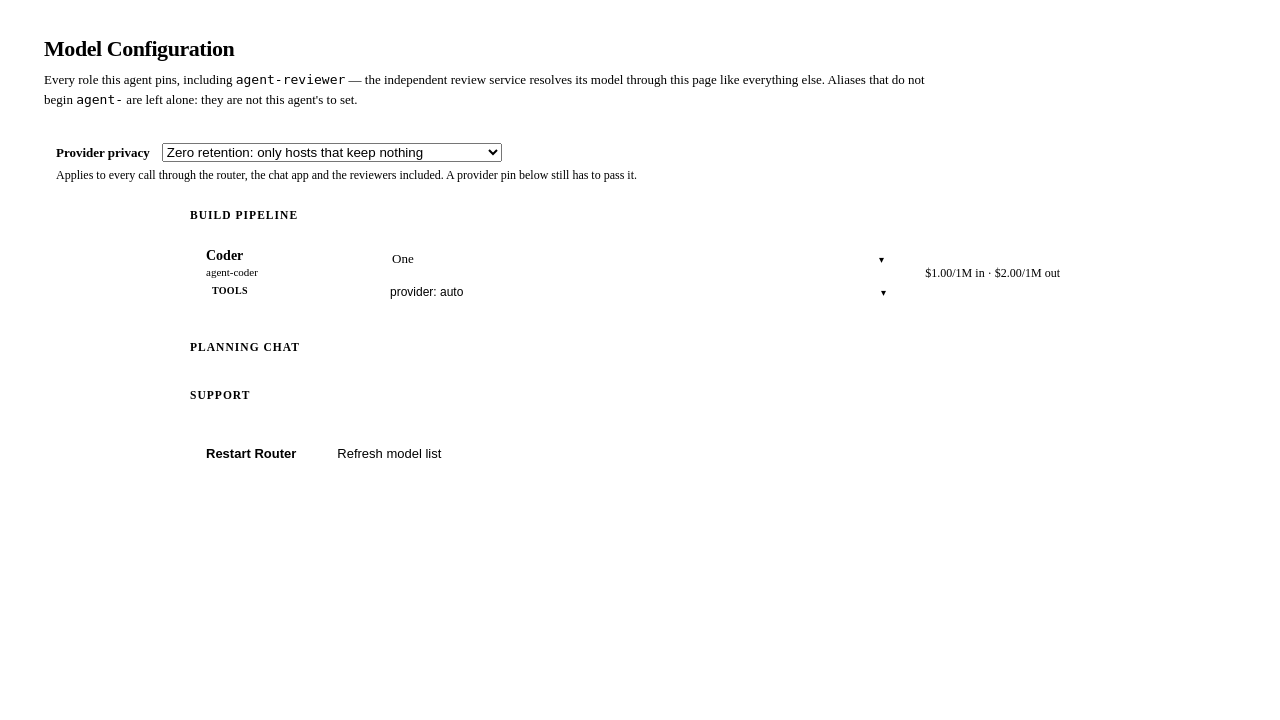
restarting the router › shows a failure INSIDE the dialog instead of behind it
Expected: the text "agent-coder" is shown, [206,266,258,278]
Click the button "Restart Router": (251,454) [190,437,312,470]
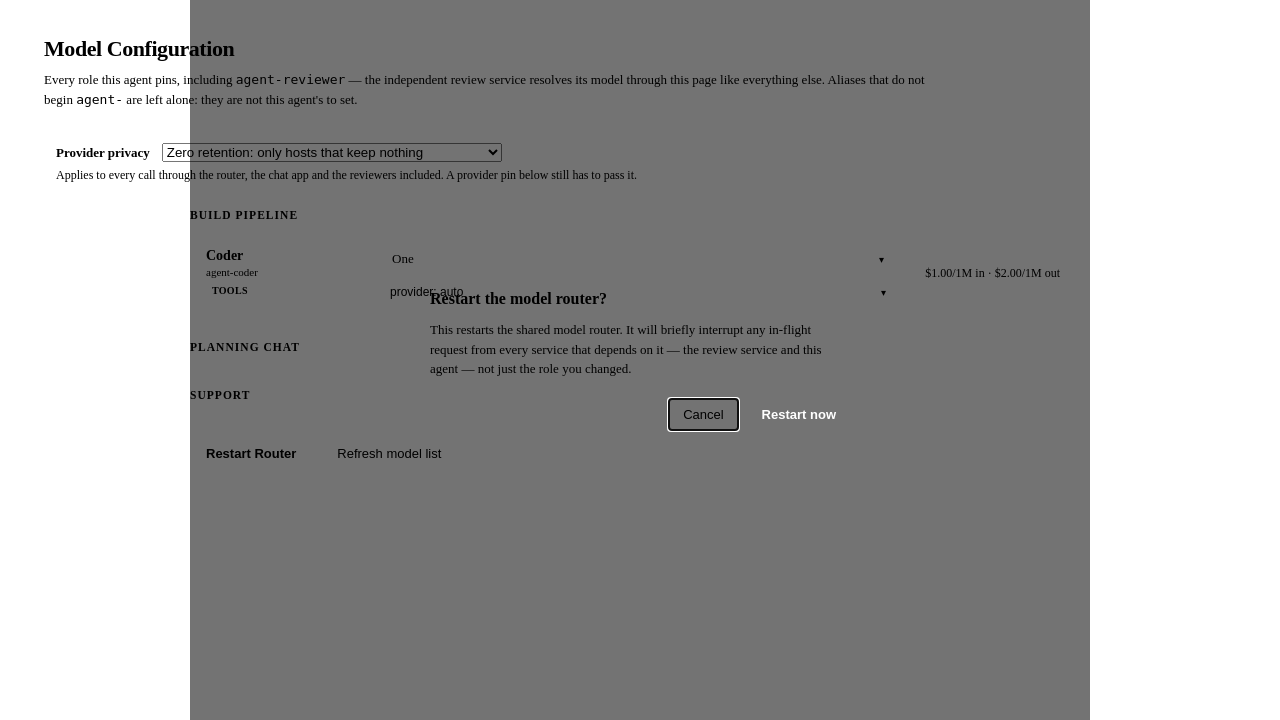
Click the button "Restart now": (799,414) [748,399,850,430]
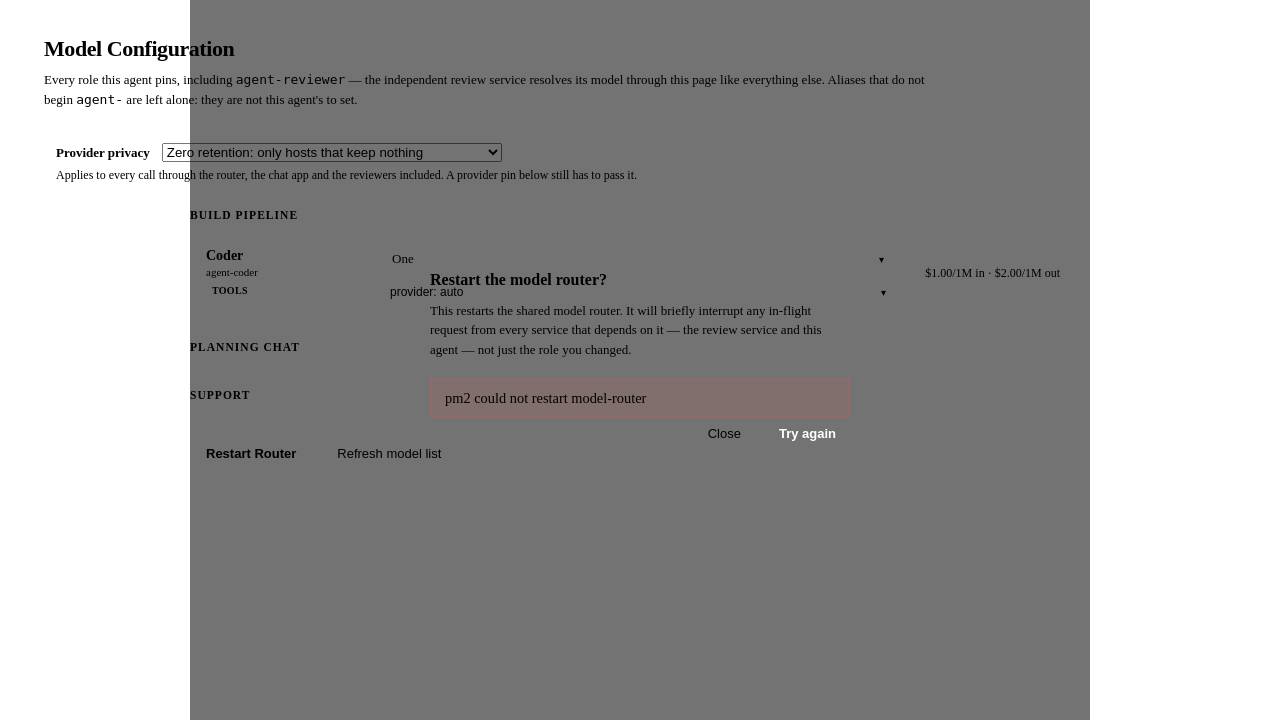
Now the message reads "pm2 could not restart model-router", box [445,390,646,406]
